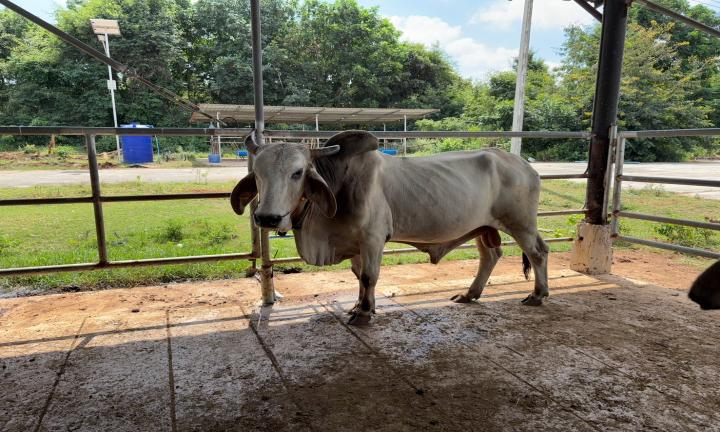Brahman: (231, 130, 548, 324)
